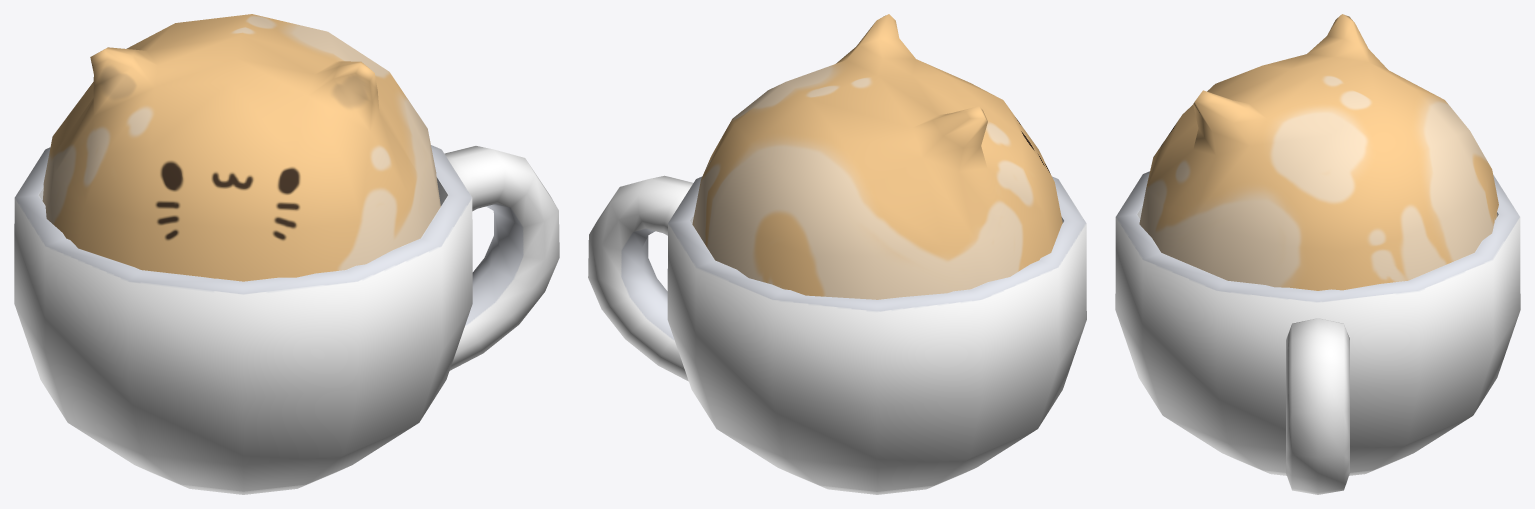
Rendered from CoffeOriginale.fbx.
The picture shows the model from 3 angles, left to right: view 1: azimuth 30°, elevation 25°; view 2: azimuth 150°, elevation 25°; view 3: azimuth 270°, elevation 25°; orthographic projection. The views are drawn at different scales.
Visible parts, largest first — view 1: EmptyCup.001; view 2: EmptyCup.001; view 3: EmptyCup.001.
Part boxes in pixels (x1,y1,x2,y2): EmptyCup.001: [14, 14, 559, 494]; EmptyCup.001: [588, 14, 1086, 494]; EmptyCup.001: [1115, 14, 1520, 494].
Bounding box in the file's own units: 48.68 × 38.64 × 38.21.
